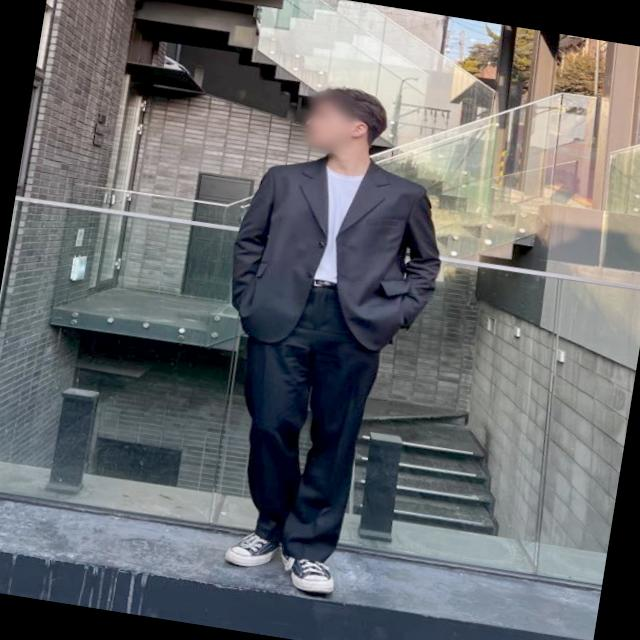blazer: (213, 267, 394, 574), (222, 144, 452, 358)
